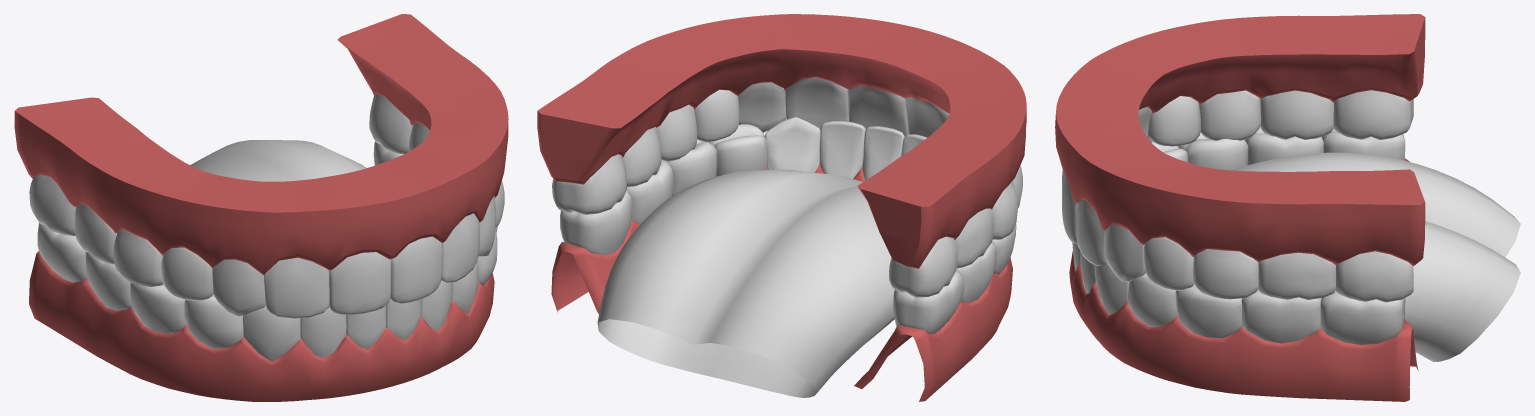
File: teeth.fbx
3 renders of one model, left to right at view 1: azimuth 30°, elevation 25°; view 2: azimuth 150°, elevation 25°; view 3: azimuth 270°, elevation 25°, orthographic.
Visible parts, largest first — view 1: Waitress:Teeth; view 2: Waitress:Teeth; view 3: Waitress:Teeth.
Boxes of the visible parts, x1,y1,x2,y2 form: Waitress:Teeth: (14, 14, 508, 401); Waitress:Teeth: (537, 14, 1026, 401); Waitress:Teeth: (1055, 14, 1520, 401).
Bounding box in the file's own units: 3.77 × 2.02 × 3.88.
